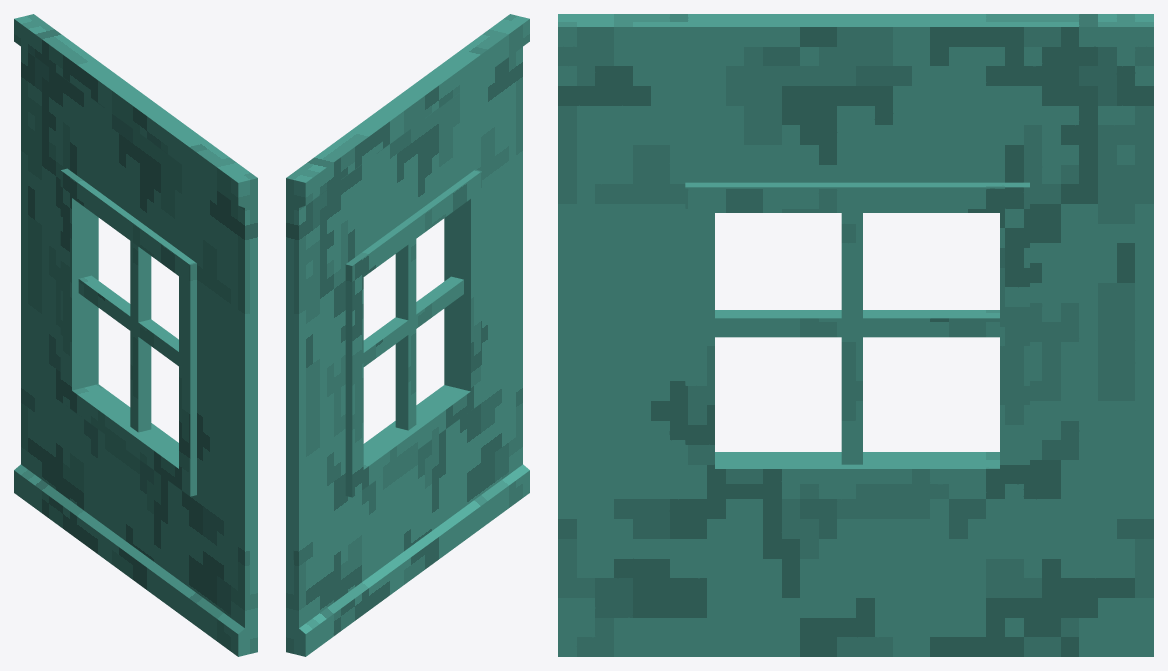
File: SM_Window_Trim.fbx
The picture shows the model from 3 angles, left to right: view 1: azimuth 30°, elevation 25°; view 2: azimuth 150°, elevation 25°; view 3: azimuth 270°, elevation 25°; orthographic projection. The views are drawn at different scales.
Visible parts, largest first — view 1: SM_Window_Trim; view 2: SM_Window_Trim; view 3: SM_Window_Trim.
Boxes of the visible parts, x1,y1,x2,y2 form: SM_Window_Trim: (14,14,257,656); SM_Window_Trim: (286,14,529,656); SM_Window_Trim: (558,14,1153,656).
Size of the model in its own units: 20.59 by 350 by 300.
